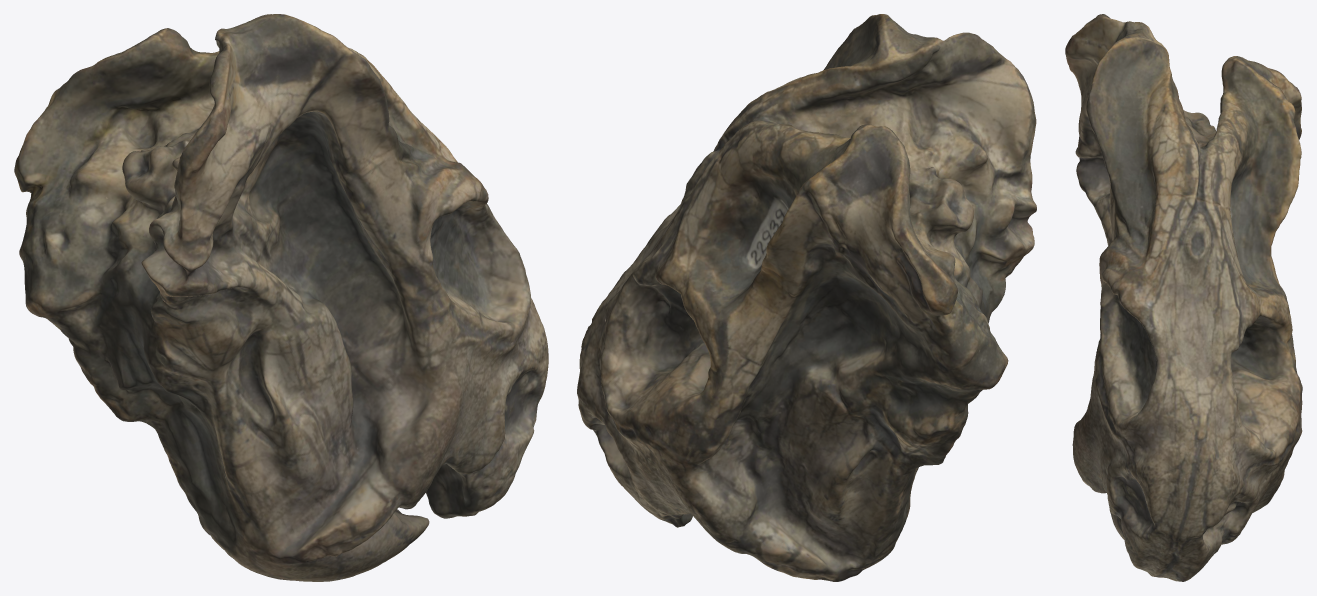
File: diictodon.glb
3 views of the same model, side by side, from view 1: azimuth 30°, elevation 25°; view 2: azimuth 150°, elevation 25°; view 3: azimuth 270°, elevation 25° (orthographic). The views are drawn at different scales.
Parts seen in each view (by area): view 1: Diictodon_feliceps_Owen__1876-unwrapped-webmulti; view 2: Diictodon_feliceps_Owen__1876-unwrapped-webmulti; view 3: Diictodon_feliceps_Owen__1876-unwrapped-webmulti.
Boxes of the visible parts, <box> form: Diictodon_feliceps_Owen__1876-unwrapped-webmulti: <box>14,14,548,581</box>; Diictodon_feliceps_Owen__1876-unwrapped-webmulti: <box>577,14,1036,581</box>; Diictodon_feliceps_Owen__1876-unwrapped-webmulti: <box>1065,14,1302,581</box>.
Size of the model in its own units: 0.0866 by 0.1027 by 0.046.
Materials: 1 (1 with a texture image).
